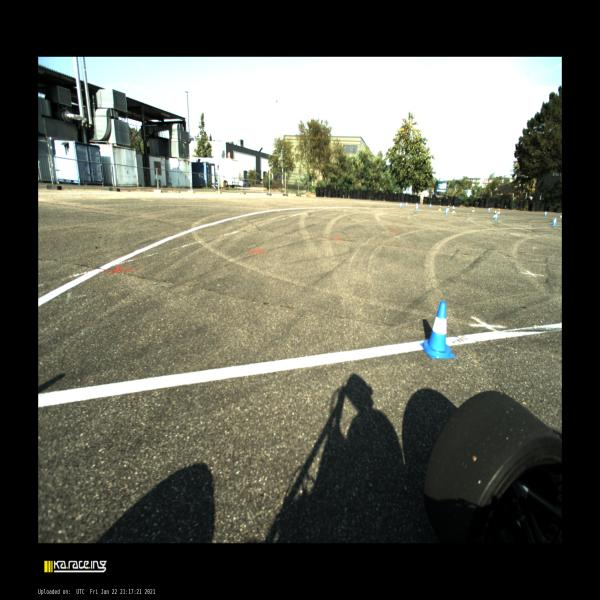blue_cone: (420, 301, 455, 358), (493, 212, 498, 220), (552, 218, 556, 225), (444, 208, 448, 214), (415, 203, 418, 210), (399, 202, 402, 208), (405, 201, 407, 207), (544, 211, 547, 215), (430, 203, 432, 208), (488, 208, 490, 212)
yellow_cone: (452, 207, 456, 213), (493, 210, 496, 217), (438, 205, 441, 211), (560, 212, 562, 218), (472, 207, 474, 212), (498, 209, 500, 214)
